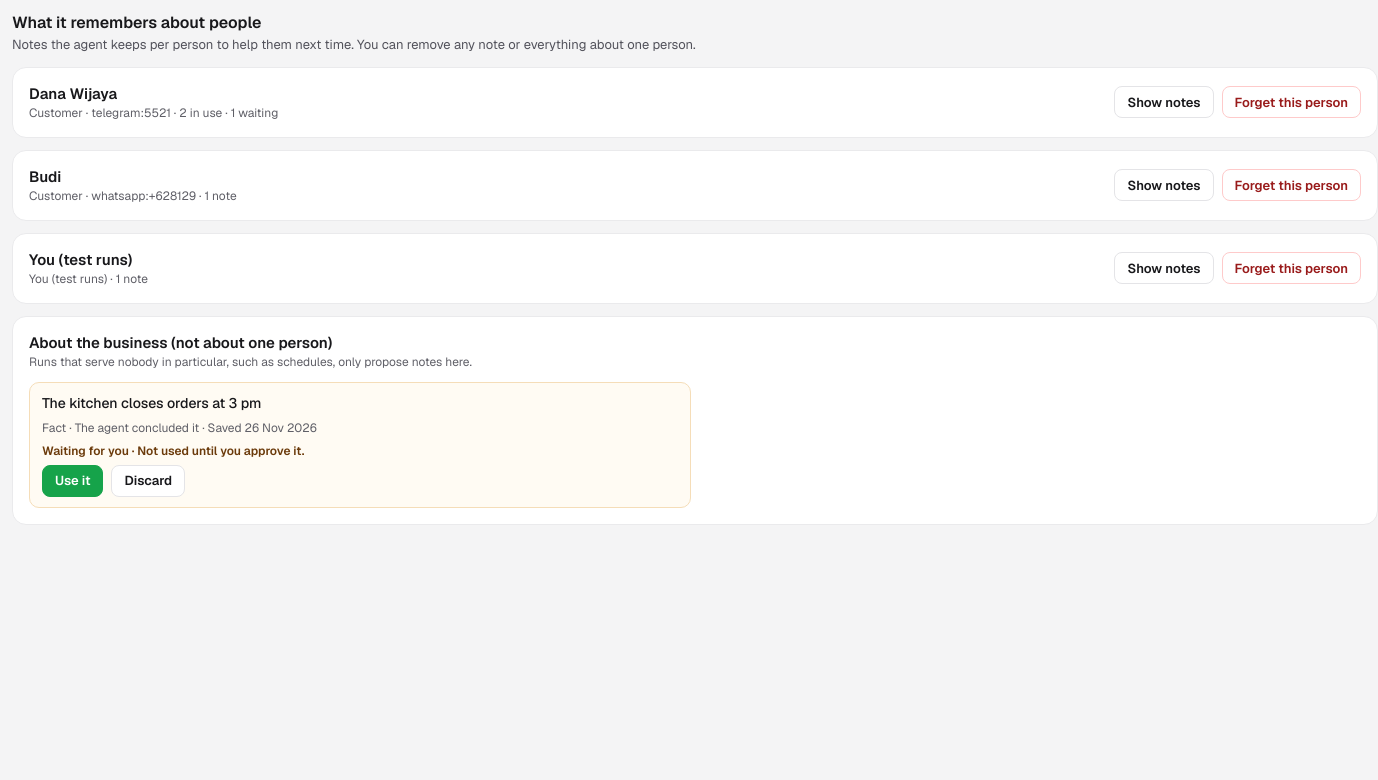
Test: MemoryPanel › shows the error of a failed change next to the note
Step 1. Click the button "Show notes" in the row of "Customer · whatsapp:+628129 · 1 note" → (1164, 185), box [1114,169,1214,201]
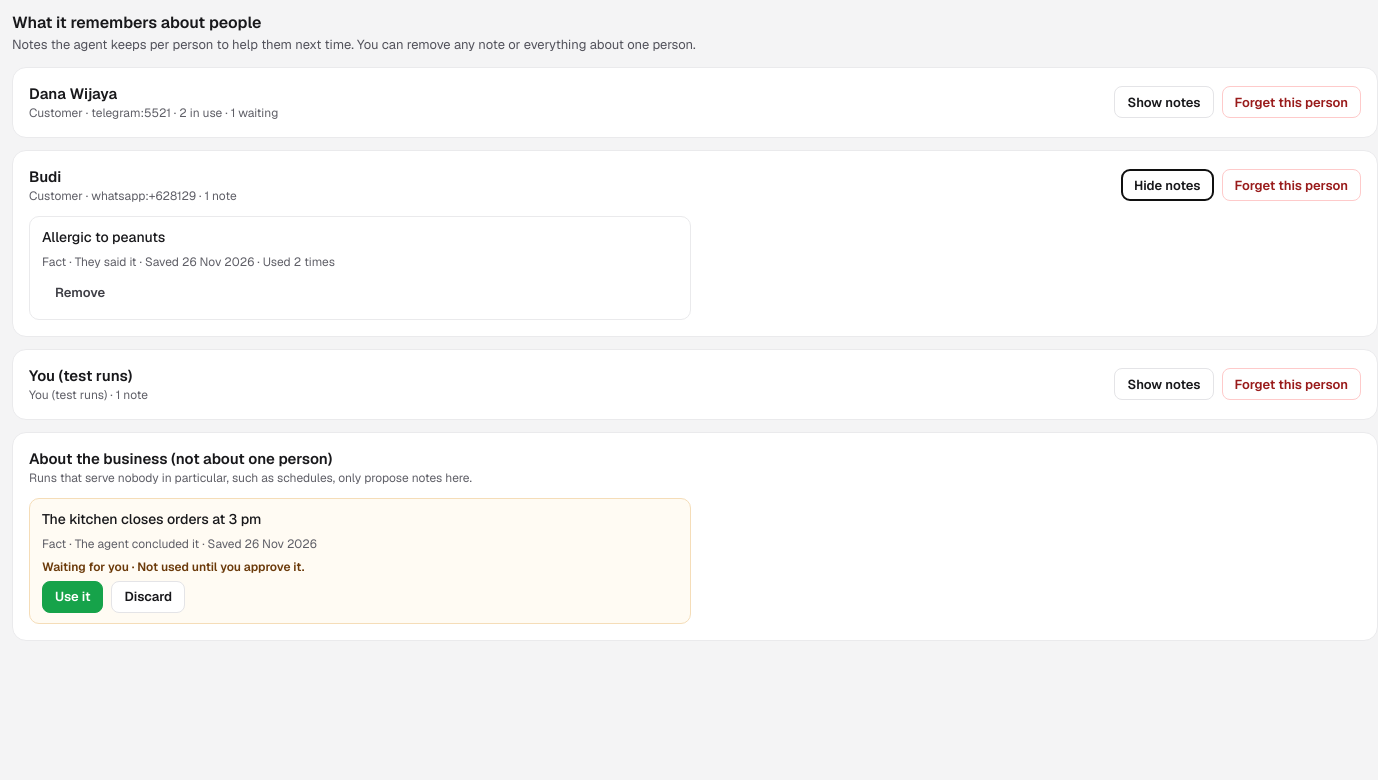
Step 2. Click the button with aria-label "Remove: Allergic to peanuts" → (80, 292), box [42,276,118,308]
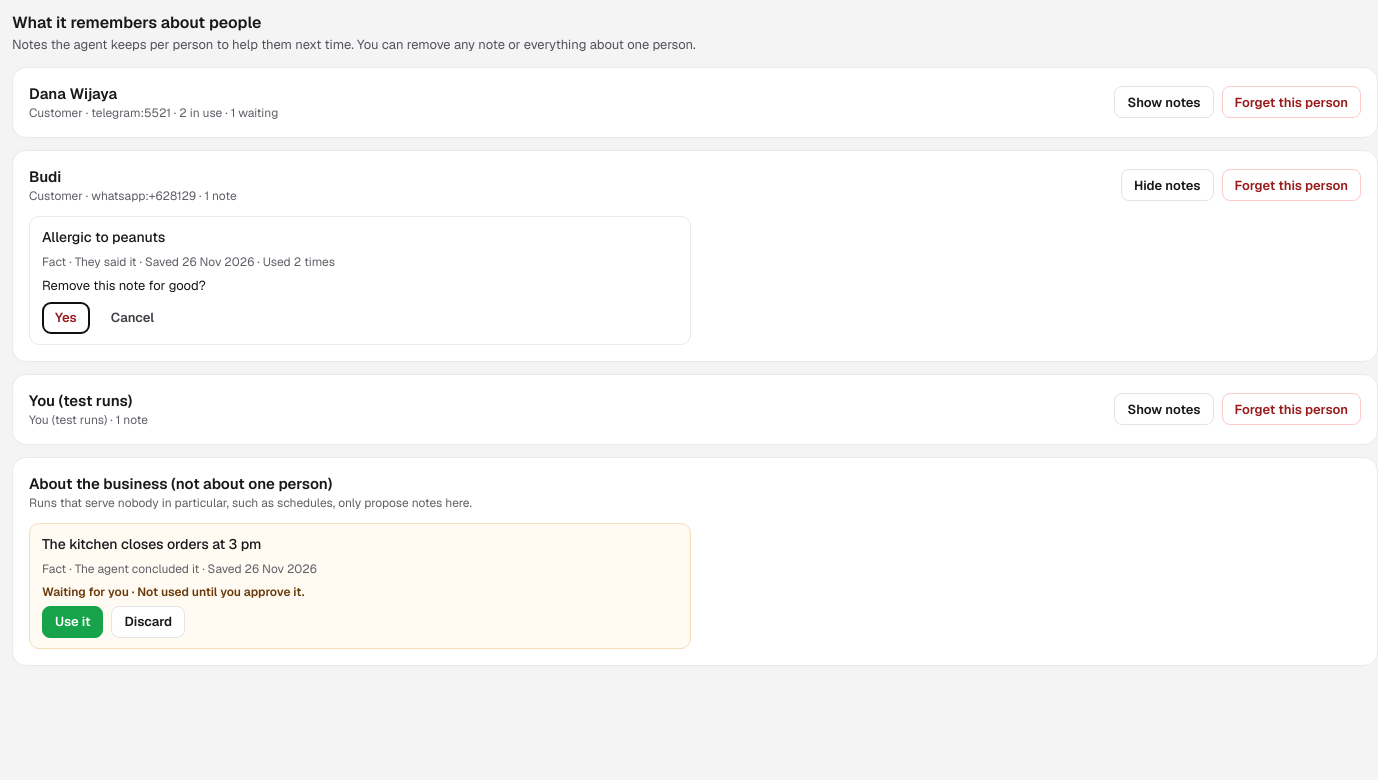
Step 3. Click the button "Yes" → (66, 318), box [42,302,90,334]
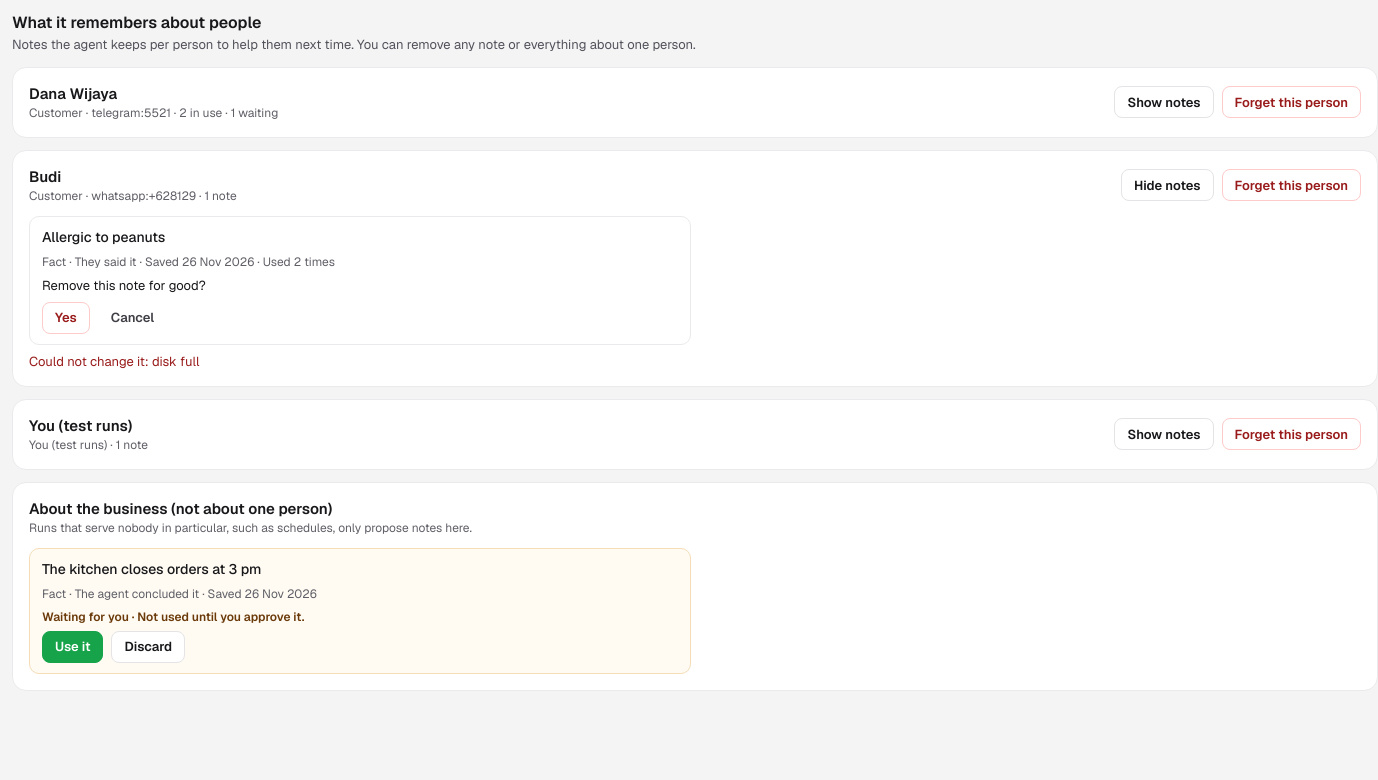
Check: the message shows "Could not change it", box [29,352,199,370]
